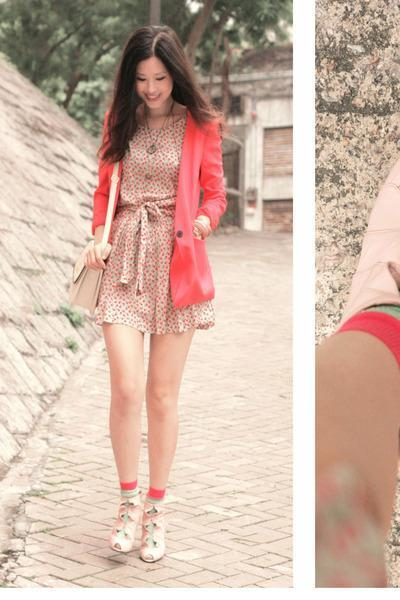bag: (71, 236, 109, 269)
dress: (99, 118, 213, 342)
jacket: (81, 120, 227, 306)
shoe: (111, 492, 170, 559)
